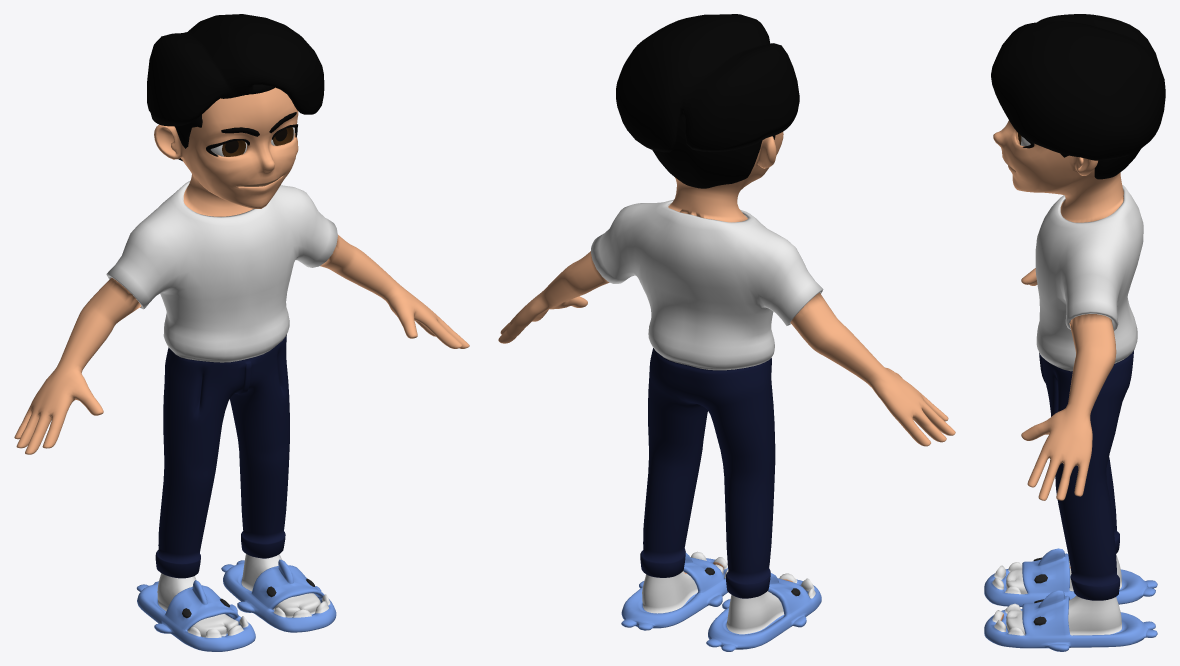
Rendered from Isaac.fbx.
The picture shows the model from 3 angles, left to right: view 1: azimuth 30°, elevation 25°; view 2: azimuth 150°, elevation 25°; view 3: azimuth 270°, elevation 25°; orthographic projection.
Visible parts, largest first — view 1: IsaacBody, IsaacHair, IsaacEyes; view 2: IsaacBody, IsaacHair; view 3: IsaacBody, IsaacHair.
Boxes of the visible parts, left/top/right/bottom form: IsaacBody: left=14, top=87, right=469, bottom=651; IsaacHair: left=147, top=14, right=324, bottom=161; IsaacEyes: left=210, top=127, right=294, bottom=156; IsaacBody: left=498, top=132, right=955, bottom=651; IsaacHair: left=616, top=14, right=799, bottom=188; IsaacBody: left=984, top=120, right=1157, bottom=651; IsaacHair: left=991, top=14, right=1165, bottom=179.
Bounding box in the file's own units: 143 × 50.14 × 180.
